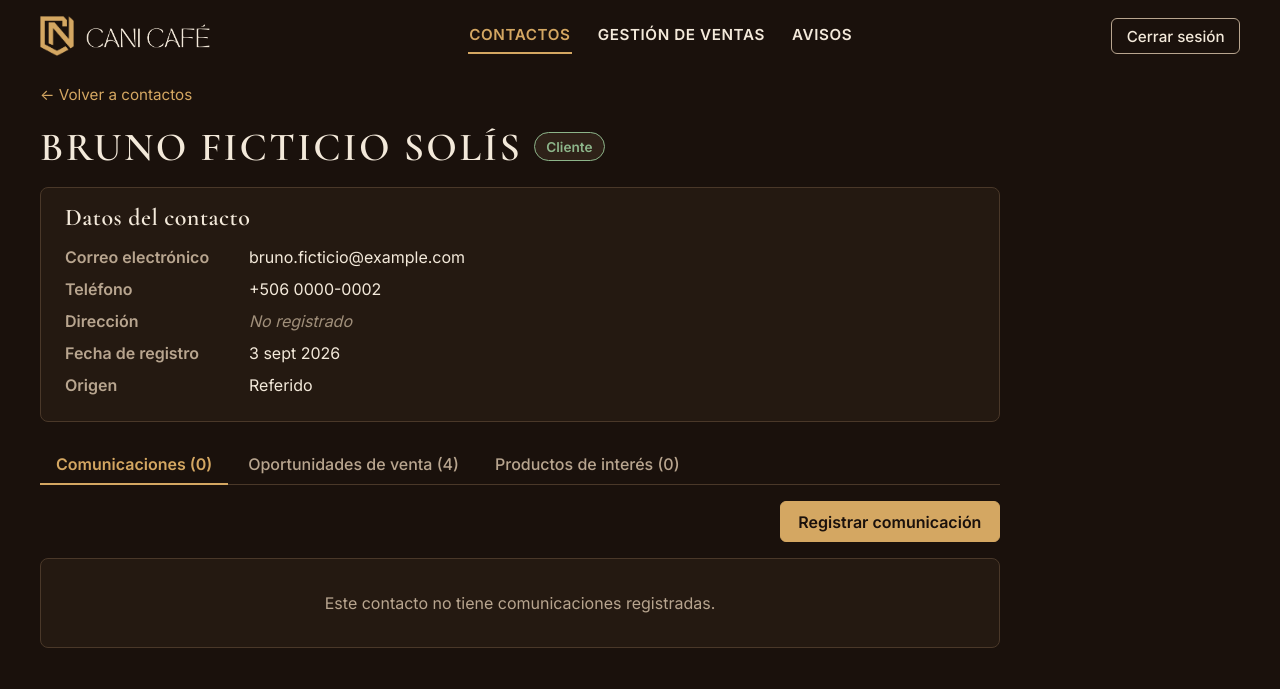
Test: HU-212 Relacionar una comunicación con una oportunidad de venta › si la venta elegida se cerró mientras tanto, avisa en el campo y la ventana sigue abierta
Expected: the tab "Oportunidades de venta (4)" is shown, [232, 446, 475, 485]
Click the button "Registrar comunicación".
click(890, 522)  # box [780, 501, 1000, 542]
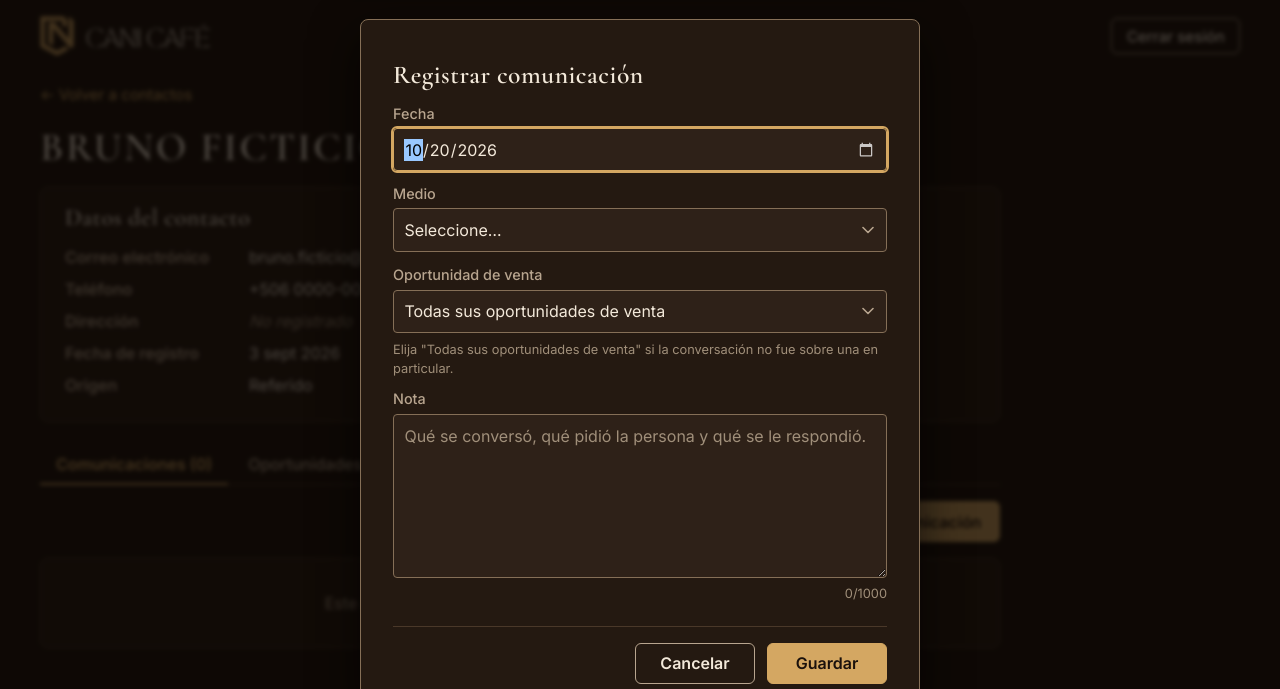
Select "Llamada telefónica" in the dropdown labelled "Medio" at (640, 230), box [393, 208, 887, 252]
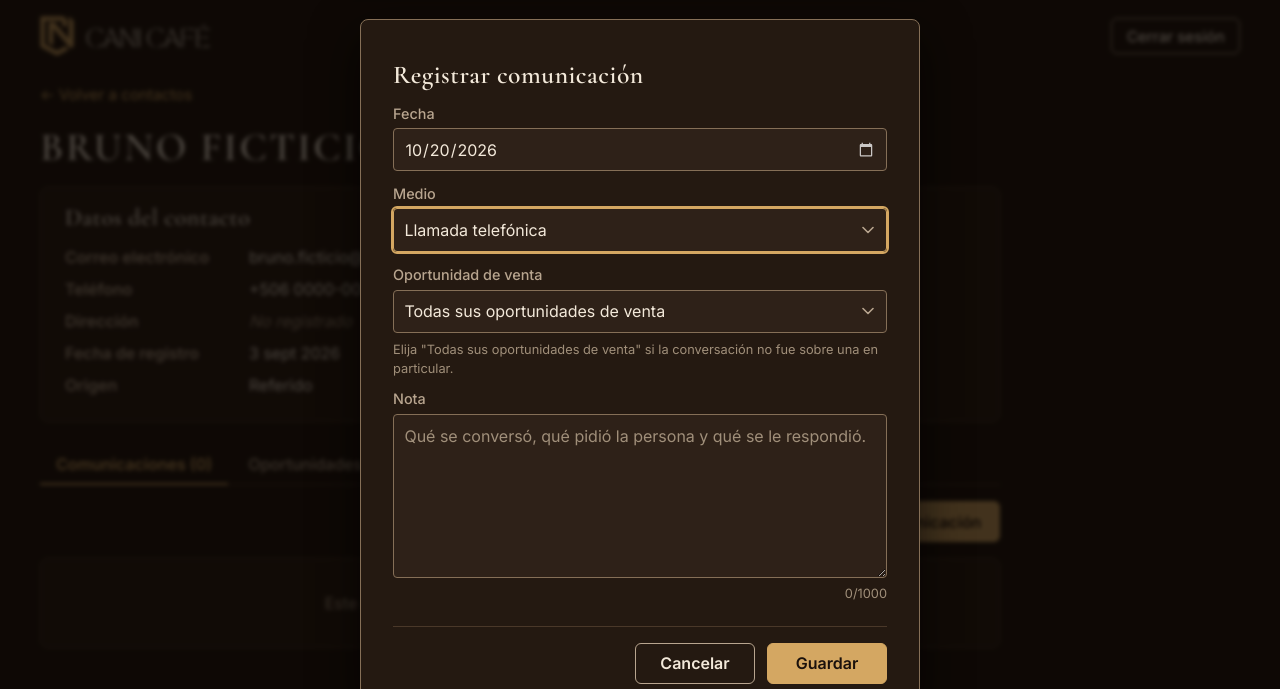
Type "Conversamos sobre el pedido." into the text box labelled "Nota".
click(640, 496); type("Conversamos sobre el pedido.")  # box [393, 414, 887, 578]
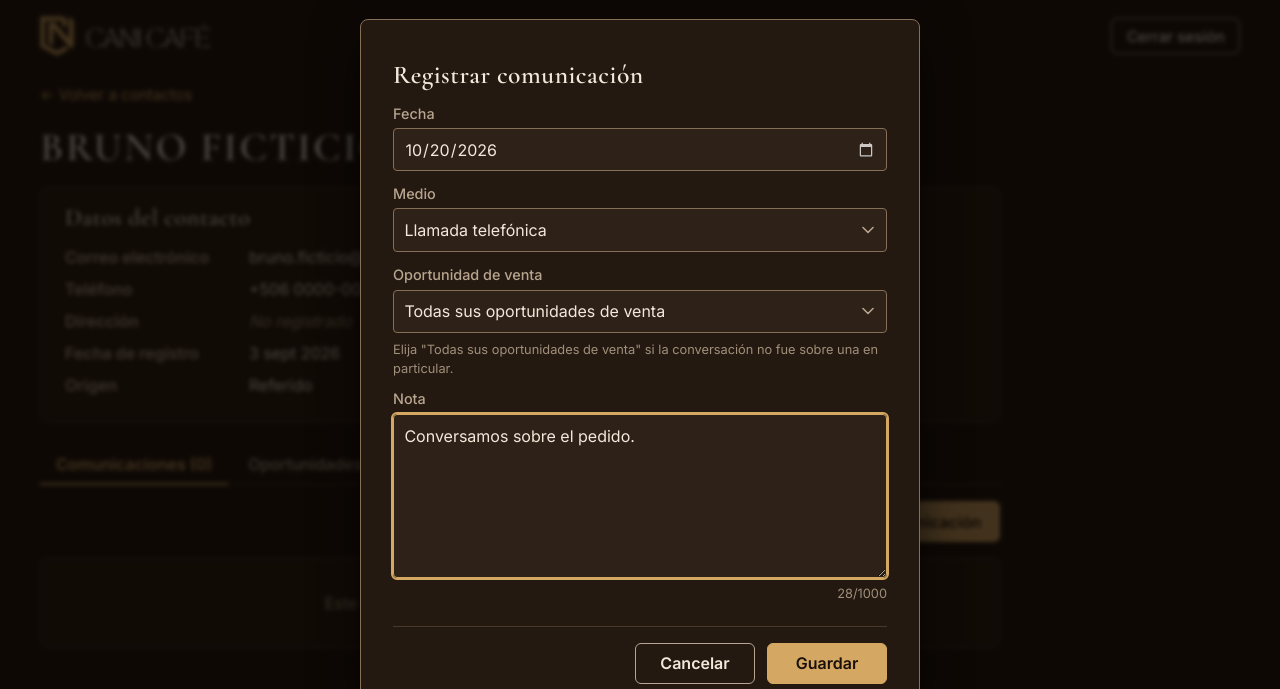
Select "Café molido para hotel" in the dropdown labelled "Oportunidad de venta" at (640, 312), box [393, 290, 887, 333]
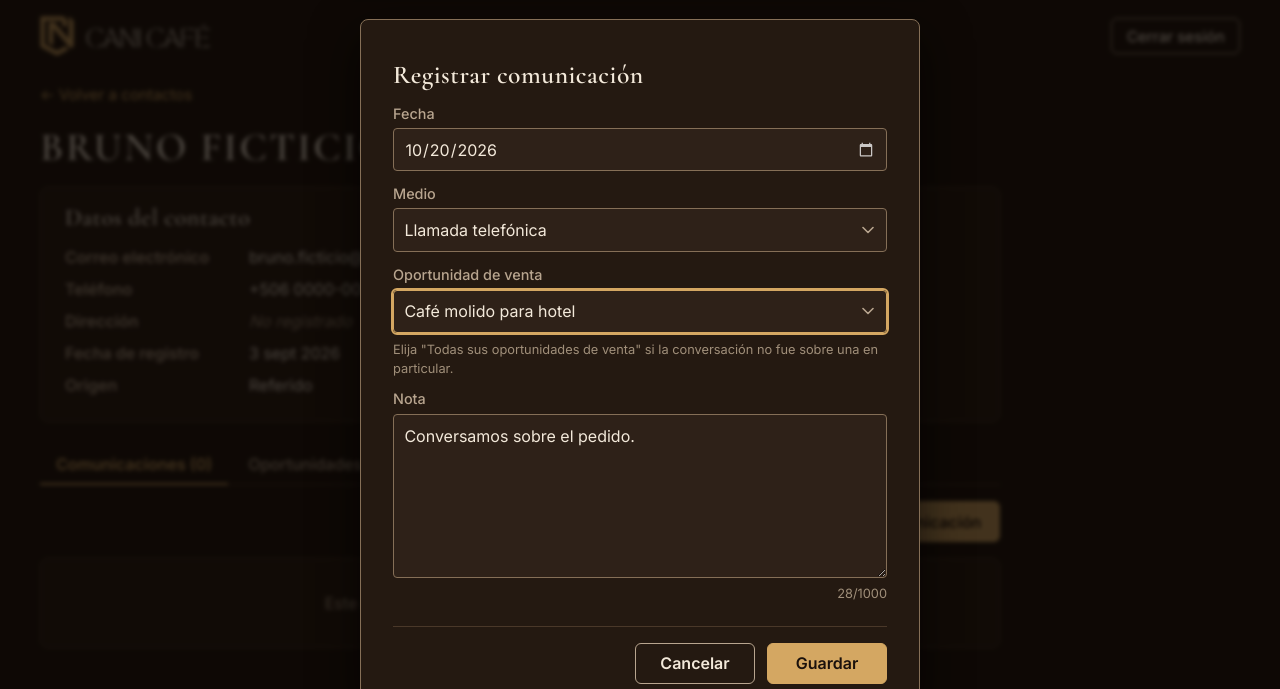
Click the button "Guardar".
click(827, 663)  # box [767, 643, 887, 684]
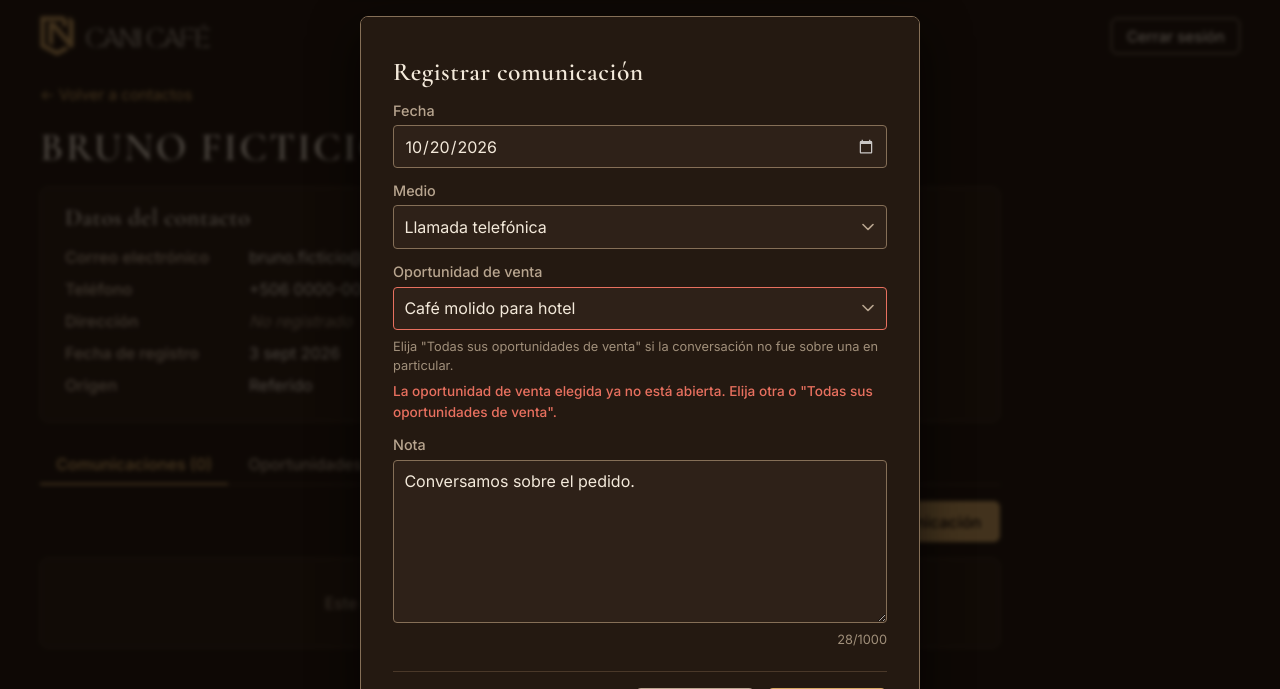
Expected: the text "La oportunidad de venta elegida ya no está abierta. Elija otra o \"Todas sus oportunidades de venta\"." is shown, [393, 383, 873, 420]
